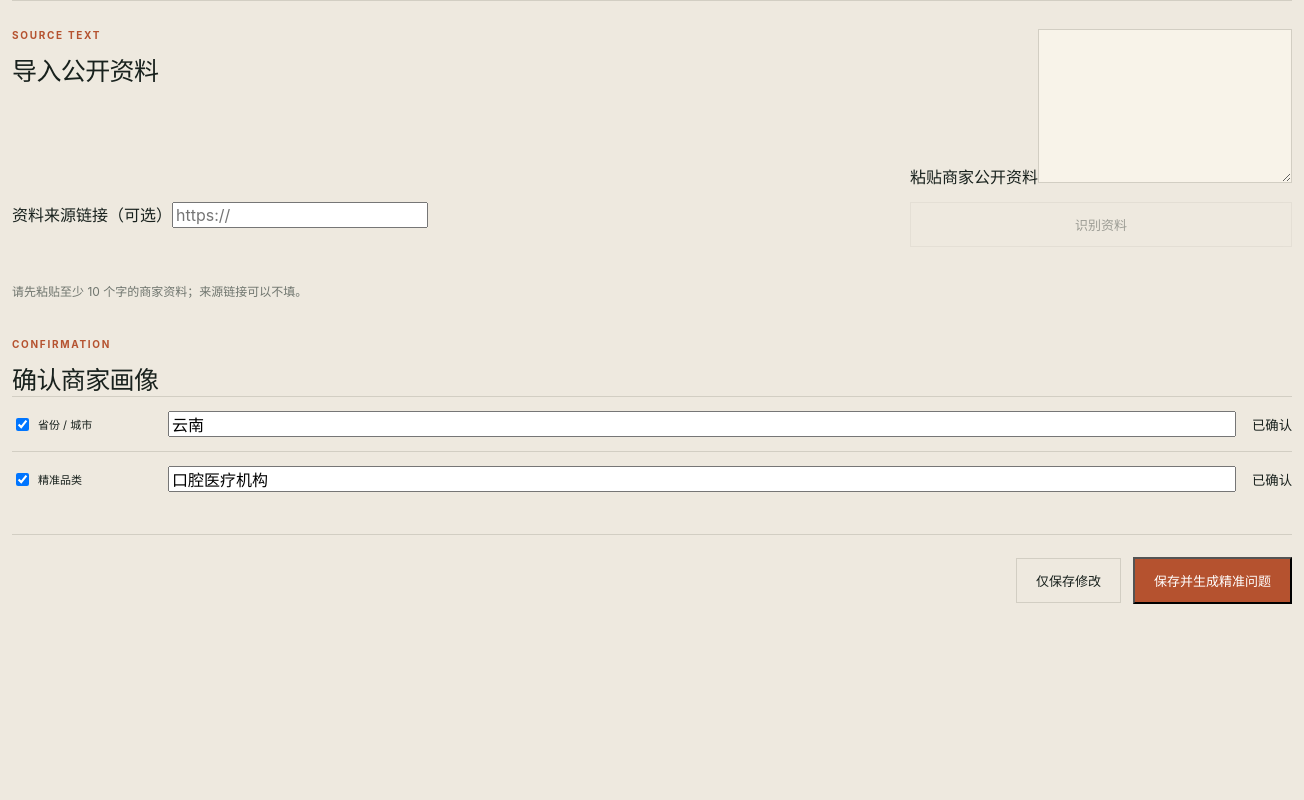
Test: saves edited profile facts without generating a new query set
This screenshot has width=1304, height=800.
Replace the text in the field named "编辑 精准品类" with "口腔门诊". click: [702, 479]
box: [168, 466, 1236, 492]
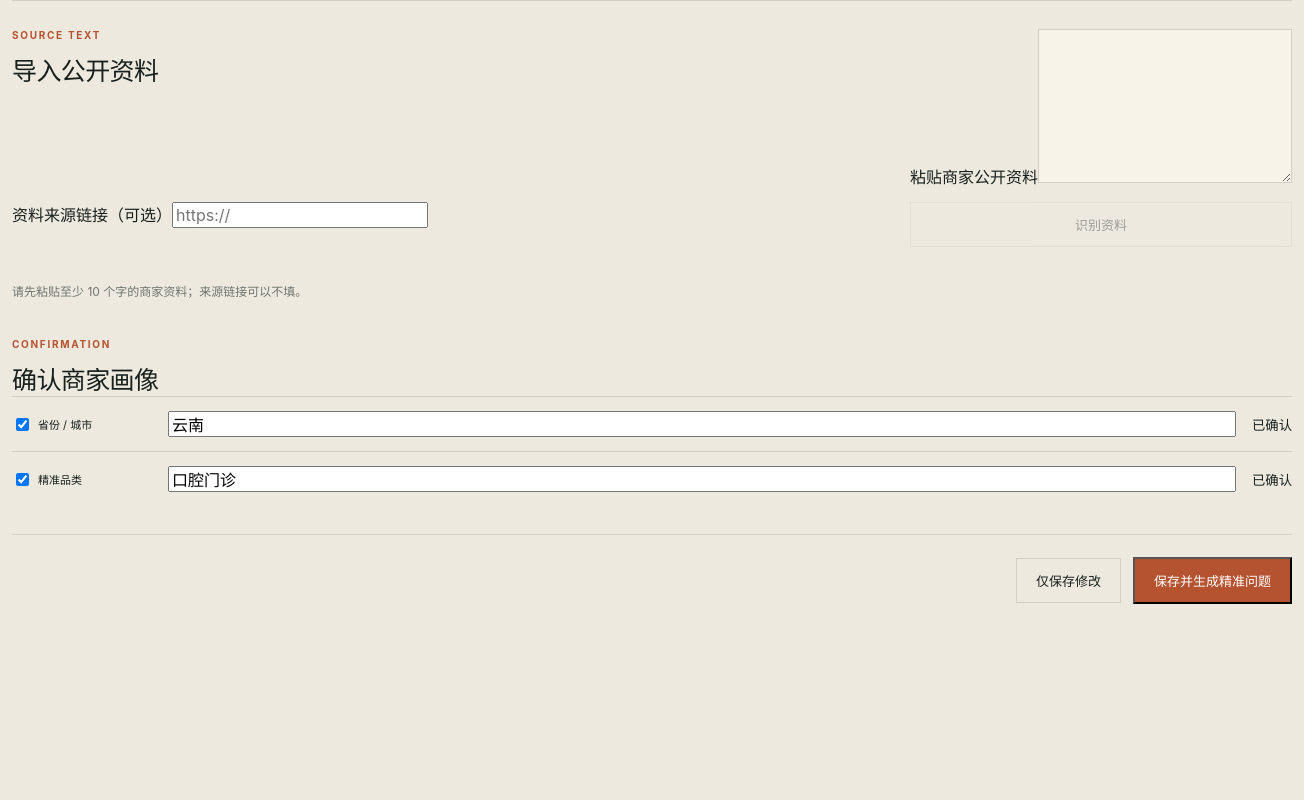
Click the button "仅保存修改". click: [1068, 580]
box: [1016, 558, 1121, 603]
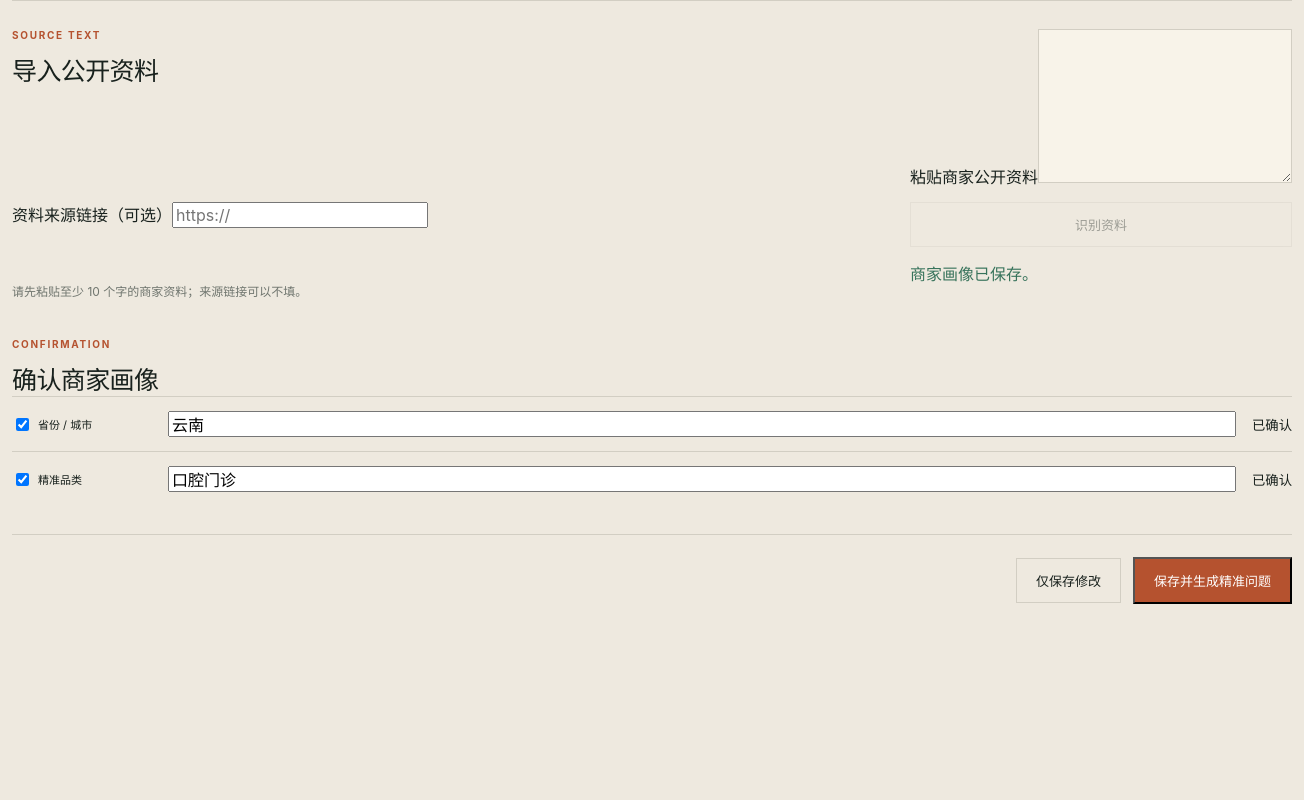
Expected: the text "商家画像已保存。" is shown, [910, 264, 1038, 284]
